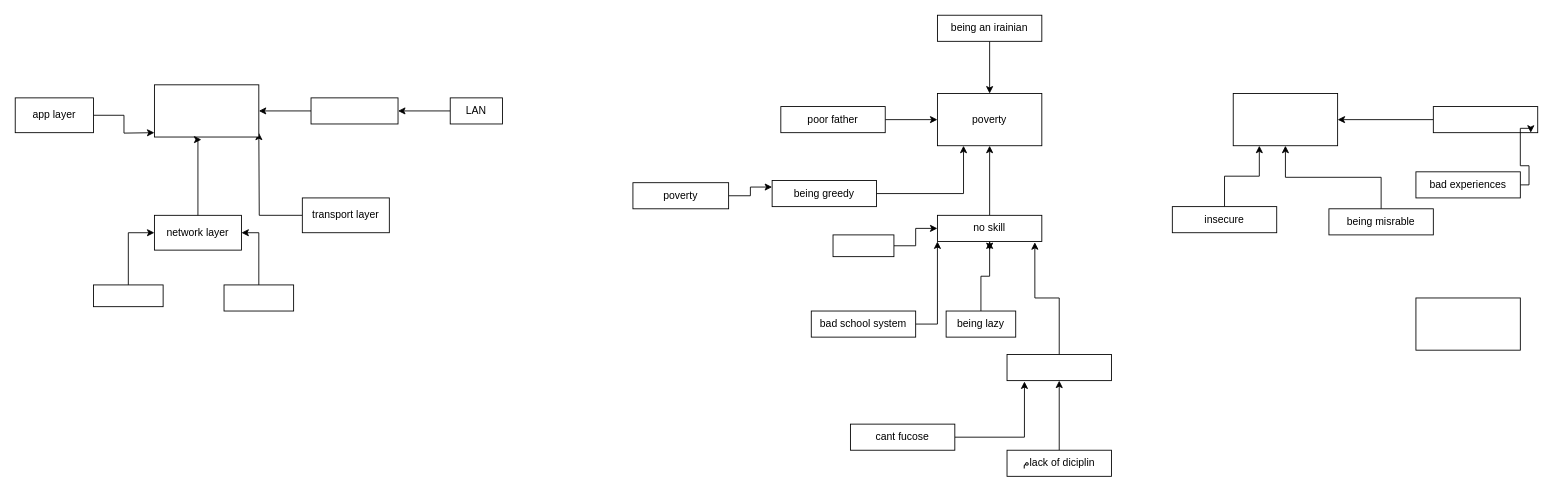
Some shapes in this 1553 by 492 pixel diagram are drawn without their labels. Here are the shapes that lost their labels. From the top down, the centre of each, then its label:
At (x=206, y=110): "protocol layers".
At (x=354, y=110): "link layer".
At (x=1285, y=119): "lonliness".
At (x=1485, y=119): "social anxiety".
At (x=863, y=245): "no intrest".
At (x=128, y=295): "cntrol plane".
At (x=258, y=297): "data plane".
At (x=1467, y=323): "bad lifstyle".
At (x=1058, y=367): "being bad at study".
